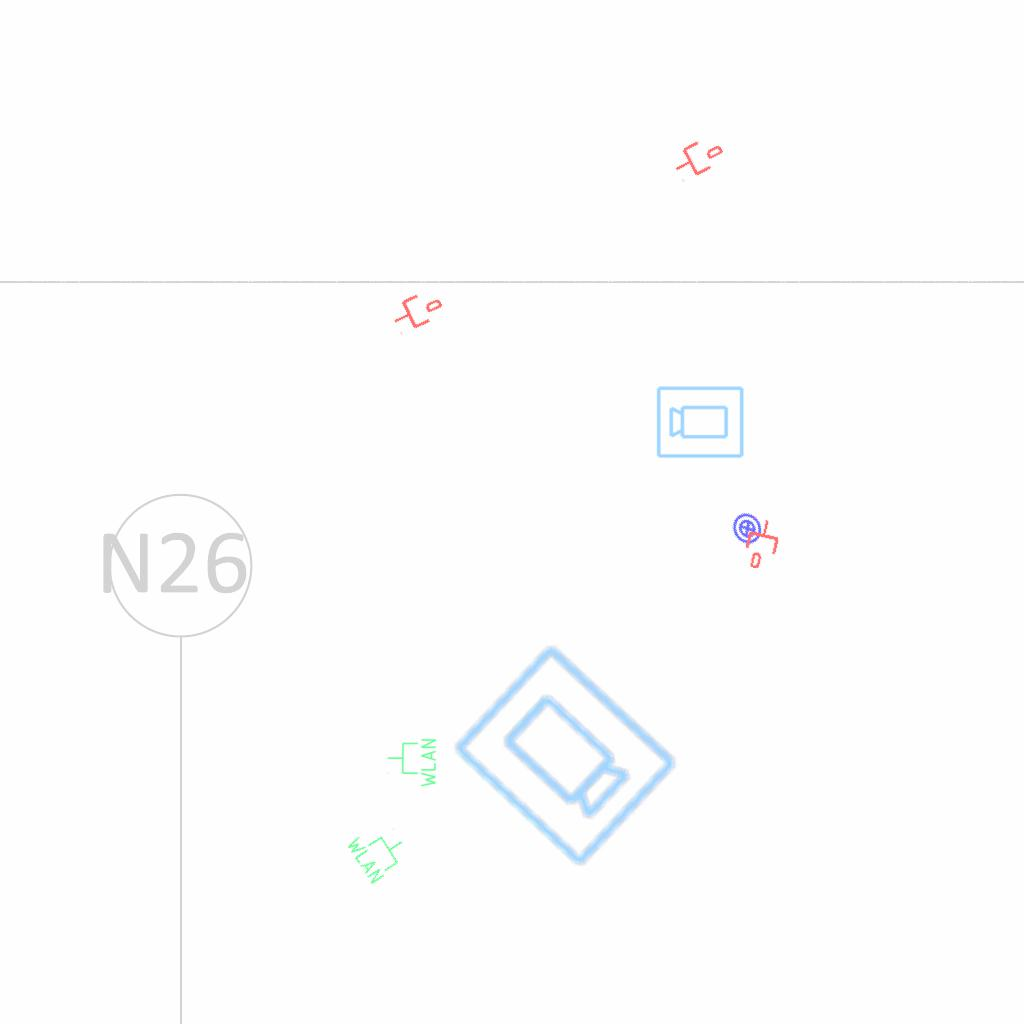Datenanschluss_einfach: (668, 131, 728, 185), (387, 285, 447, 337), (739, 515, 785, 573)
KFO_Kamera_mit_Festobjektiv: (444, 637, 684, 875), (655, 383, 746, 460)
Taster_beleuchtet: (724, 505, 771, 552)
WLAN: (343, 815, 415, 887), (386, 737, 438, 789)
